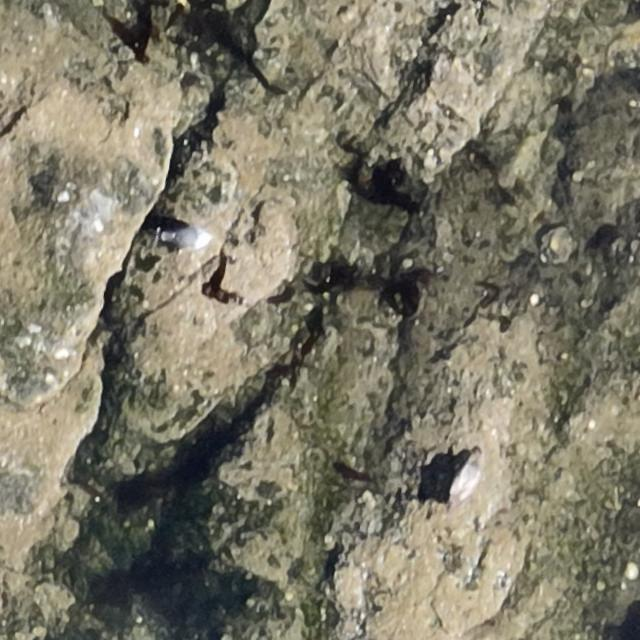umineko: (172, 228, 210, 248)
